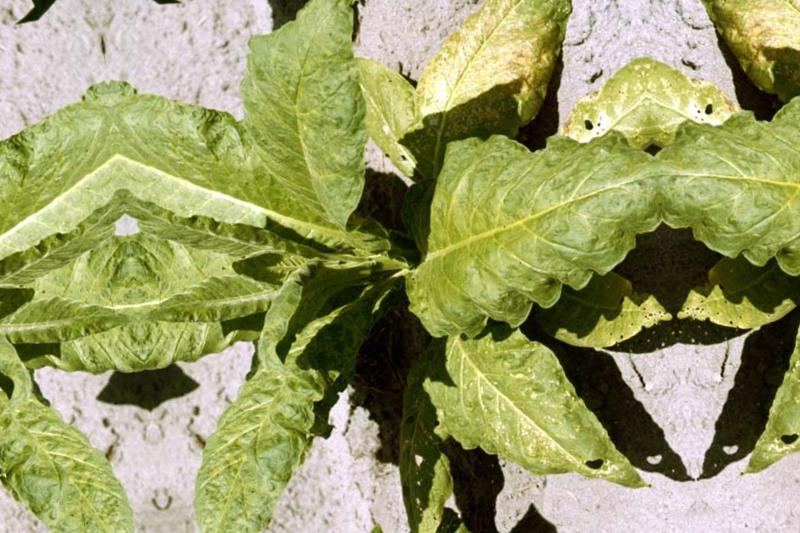Tomato leaf mosaic virus: (389, 110, 675, 348), (165, 285, 415, 533), (396, 320, 623, 511), (241, 0, 391, 227)
